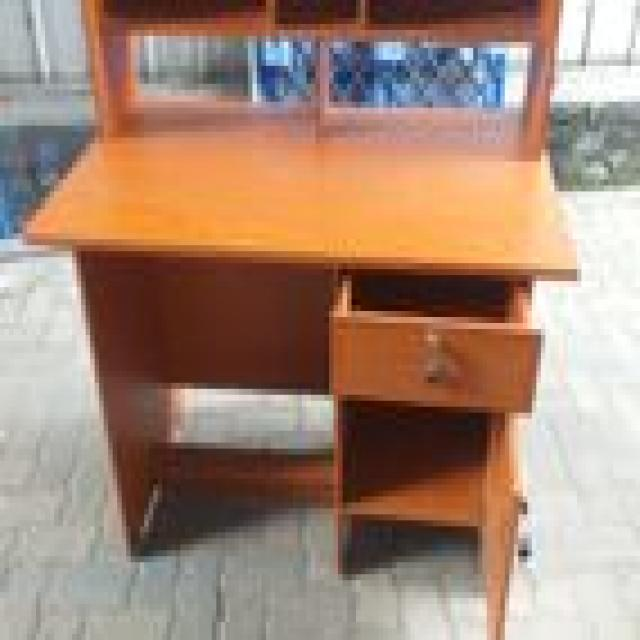others: (9, 6, 604, 628)
